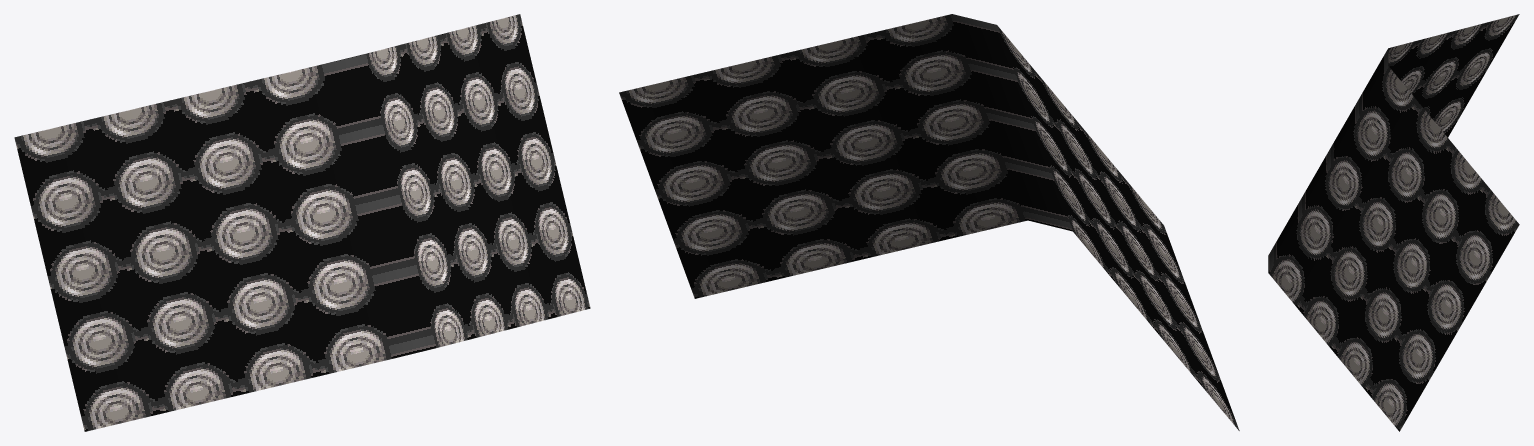
The model's file is 5775head057_c.gltf.
3 renders of one model, left to right at view 1: azimuth 30°, elevation 25°; view 2: azimuth 150°, elevation 25°; view 3: azimuth 270°, elevation 25°, orthographic. The views are drawn at different scales.
Parts seen in each view (by area): view 1: 5775head057_c; view 2: 5775head057_c; view 3: 5775head057_c.
Boxes of the visible parts, <box> form: 5775head057_c: <box>14,14,590,431</box>; 5775head057_c: <box>619,14,1239,430</box>; 5775head057_c: <box>1268,14,1519,431</box>.
Bounding box in the file's own units: 0.6523 × 0.3896 × 0.3291.
Materials: 1 (1 with a texture image).
